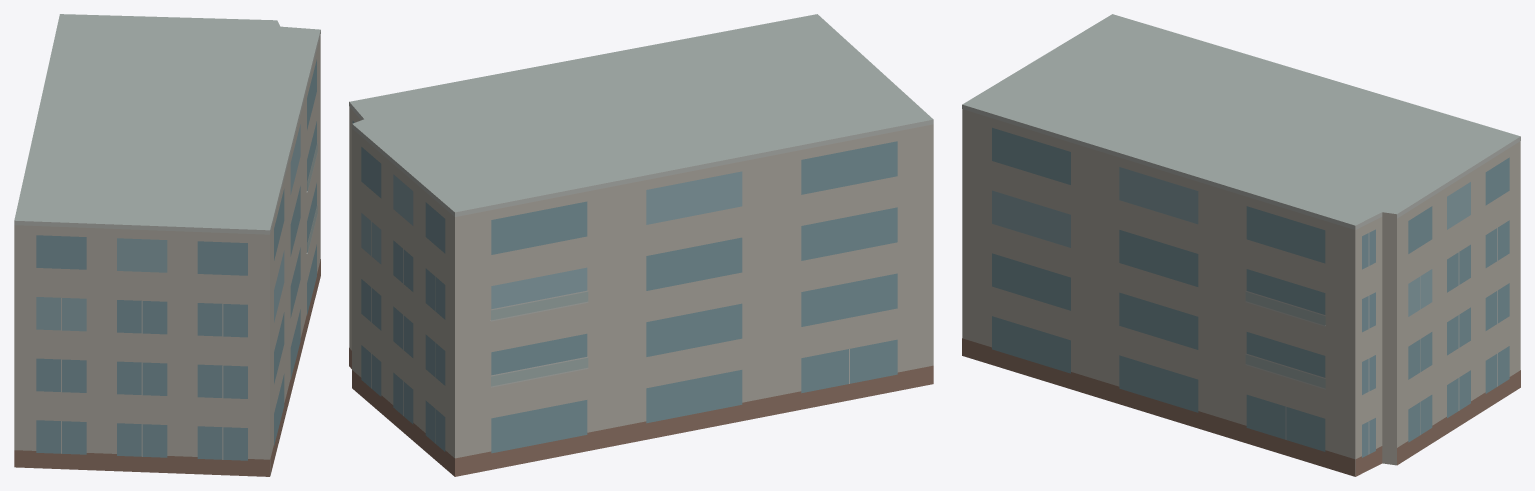
Rendered from survey-upis-32696724.glb.
3 renders of one model, left to right at view 1: azimuth 30°, elevation 25°; view 2: azimuth 150°, elevation 25°; view 3: azimuth 270°, elevation 25°, orthographic. The views are drawn at different scales.
Parts seen in each view (by area): view 1: survey-upis-32696724.tmp; view 2: survey-upis-32696724.tmp; view 3: survey-upis-32696724.tmp.
Part boxes in pixels (x1=…): survey-upis-32696724.tmp: x1=14, y1=14, x2=320, y2=476; survey-upis-32696724.tmp: x1=349, y1=14, x2=933, y2=476; survey-upis-32696724.tmp: x1=962, y1=14, x2=1520, y2=476.
Bounding box in the file's own units: 24.76 × 13.7 × 27.62.
